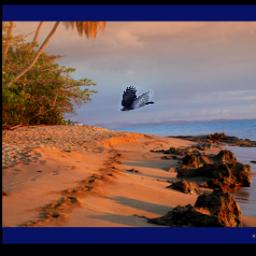Crow: (119, 85, 155, 111)
